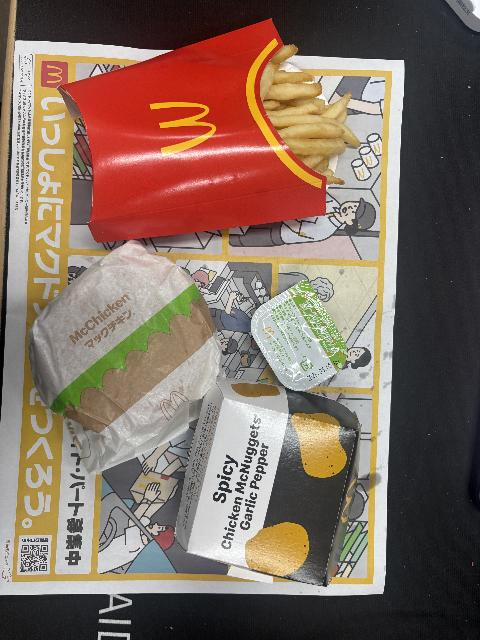burger: (27, 238, 225, 474)
fries: (57, 18, 361, 243)
nuggets: (175, 377, 362, 588)
sauce: (251, 279, 348, 392)
